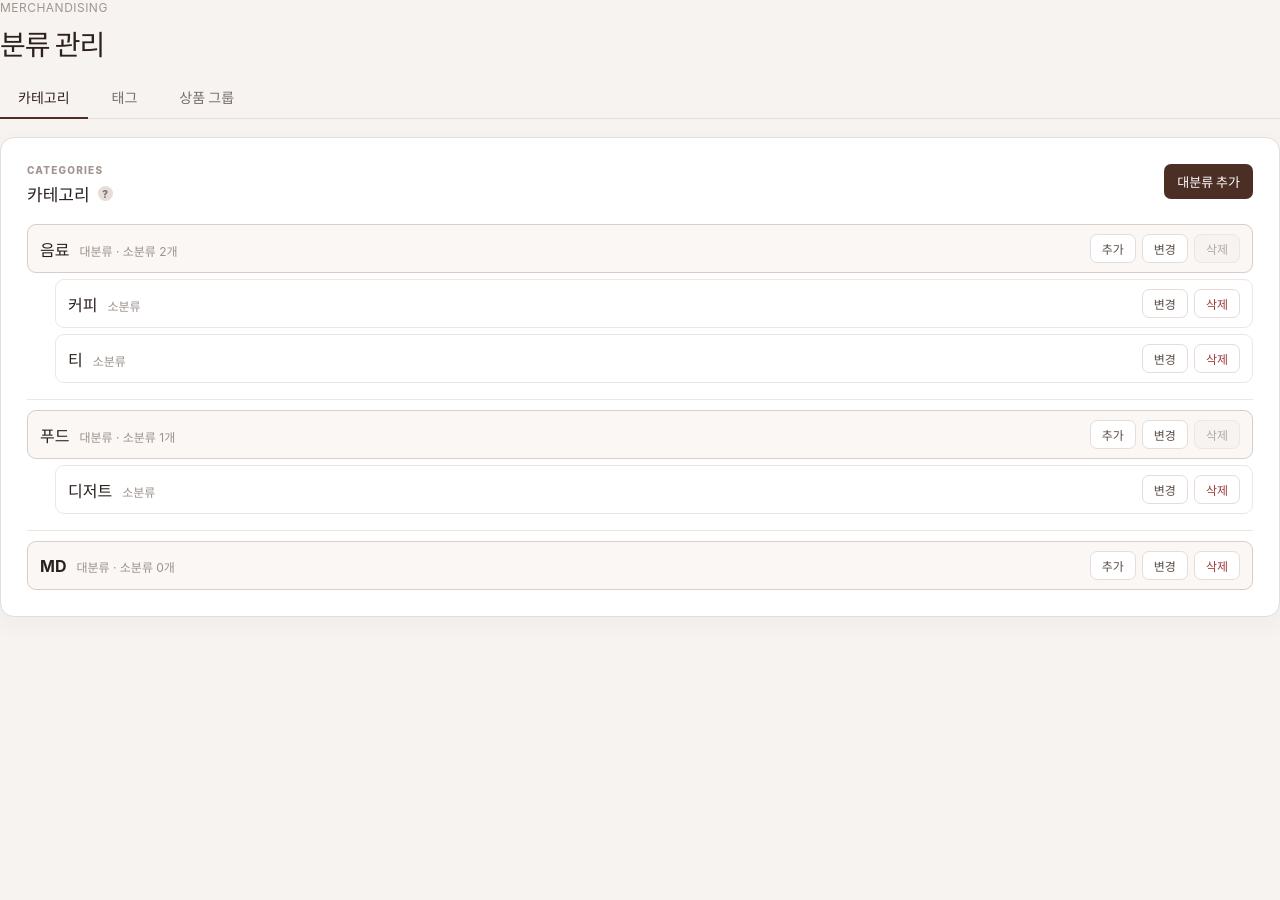
카테고리 › 이름을 비우면 요청하지 않고 안내한다
Click the button with aria-label "변경 · 커피" at (1165, 304), box [1142, 289, 1188, 318]
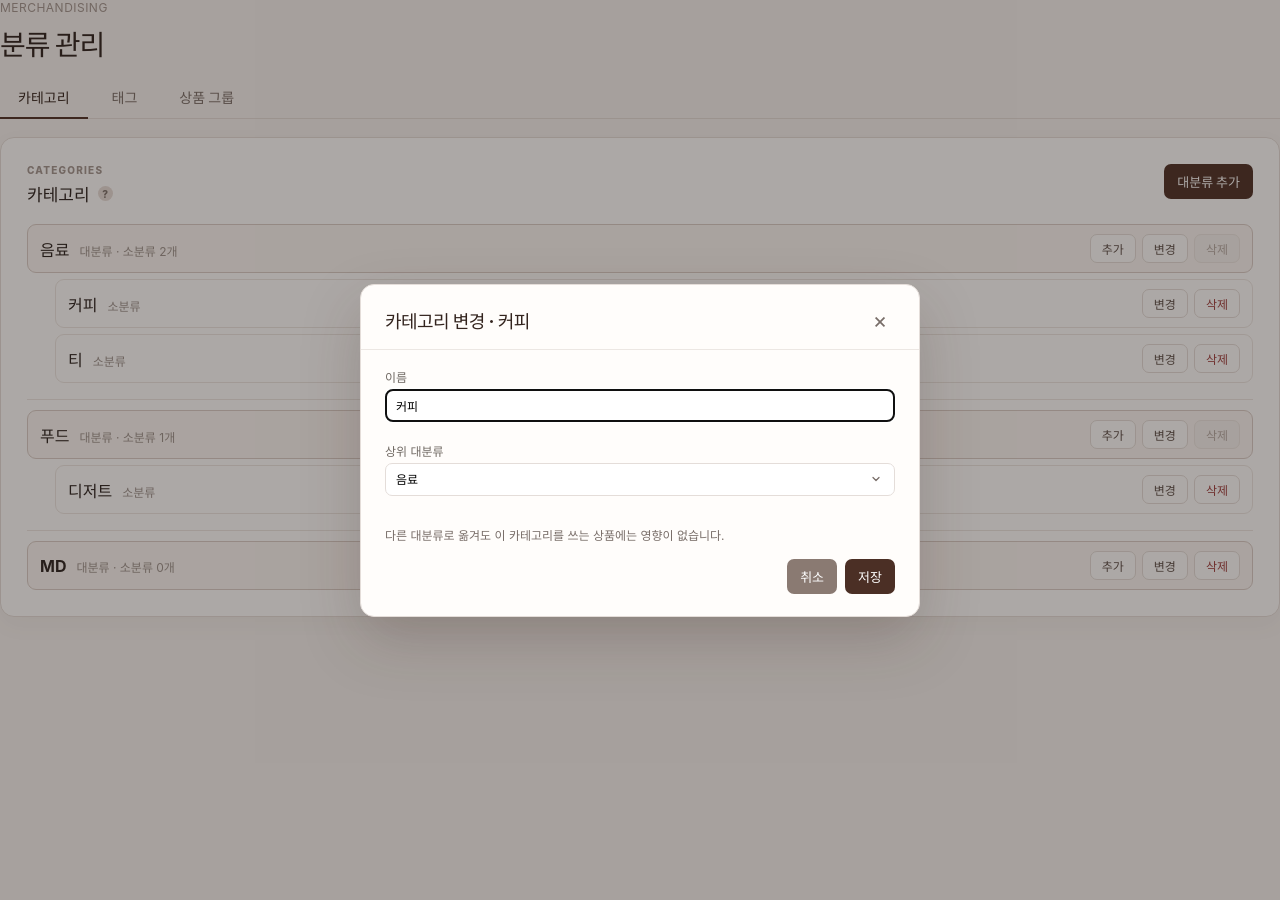
Clear the field labelled "이름" at (640, 405), box [385, 388, 895, 422]
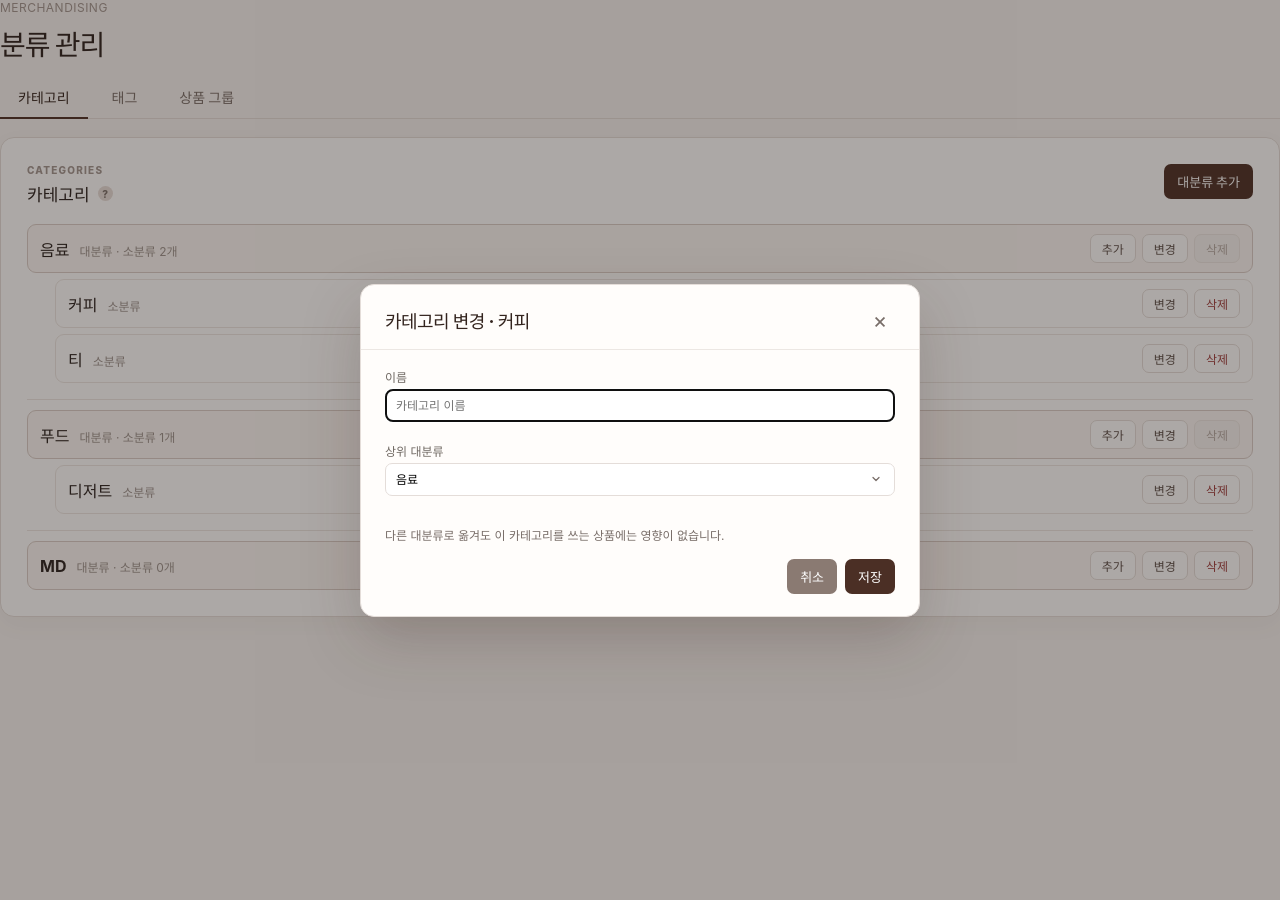
Click the button "저장" at (870, 576), box [845, 558, 895, 594]
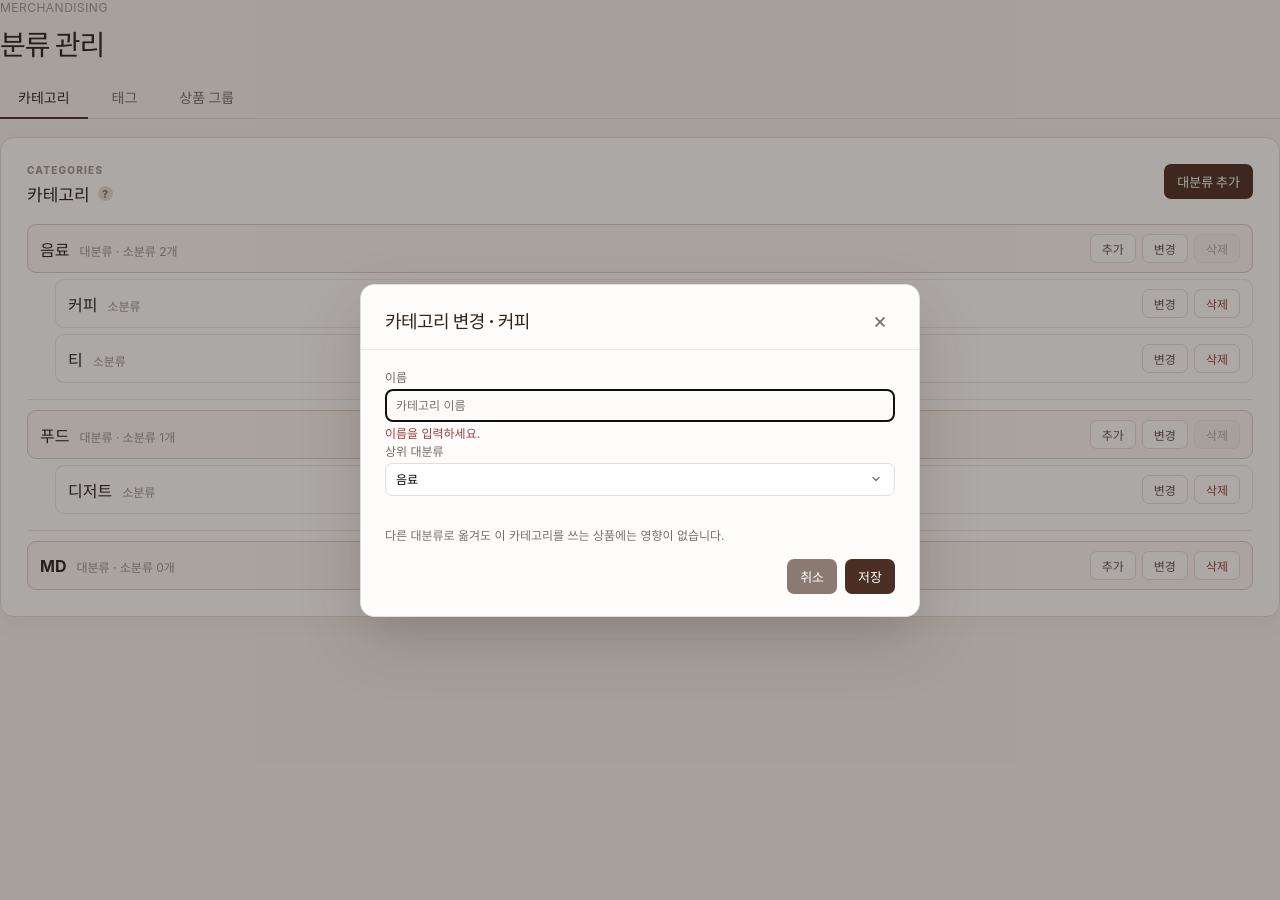
Check: the text "이름을 입력하세요." is shown, box [385, 426, 480, 440]
